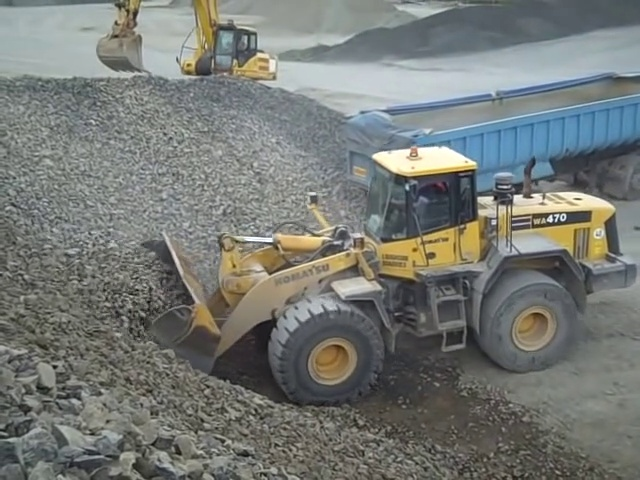truck: (339, 72, 640, 202)
wheel loader: (123, 145, 636, 405), (95, 2, 278, 90)
